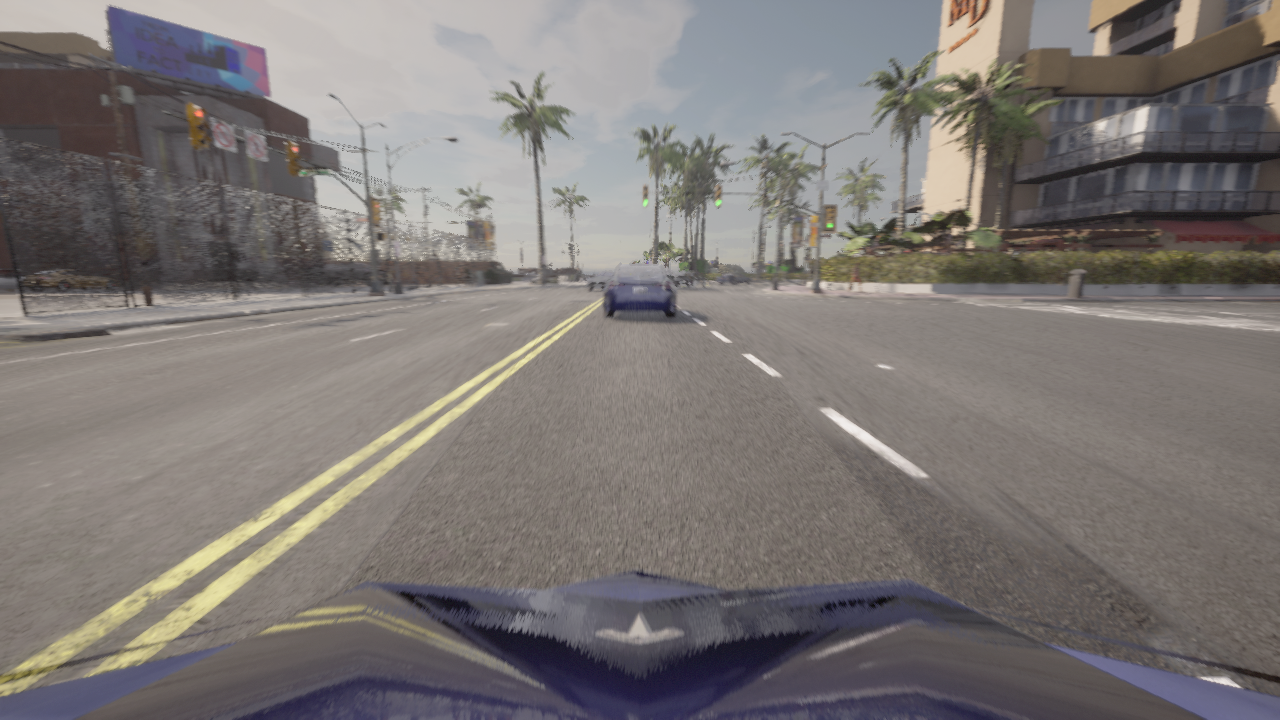cyclist: (0, 569, 1279, 719), (603, 264, 676, 317), (21, 268, 118, 291), (307, 262, 387, 286), (0, 269, 31, 290), (674, 270, 706, 287), (586, 271, 614, 290), (715, 272, 753, 284), (665, 269, 675, 282)
pedestrian: (848, 261, 864, 292), (809, 265, 821, 288), (464, 263, 472, 288)
